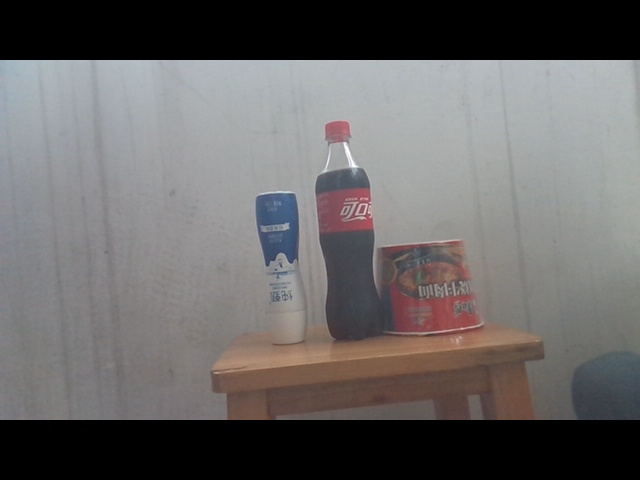cola: (314, 120, 386, 338)
kangshifu: (377, 239, 486, 337)
yogurt: (255, 191, 309, 346)
